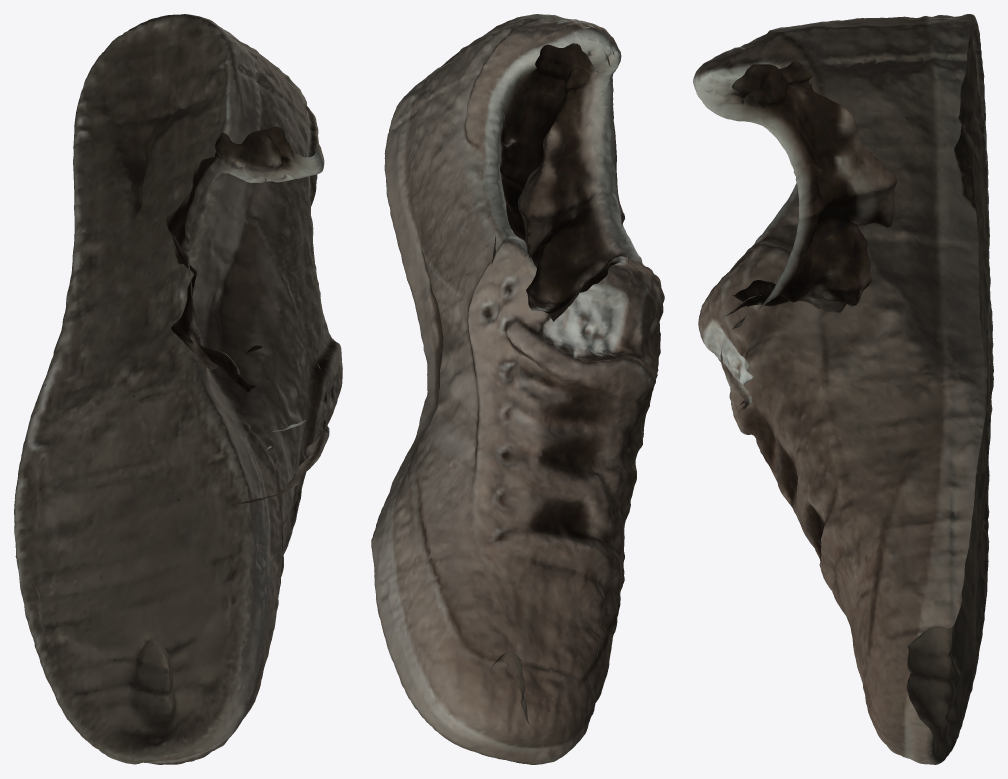
Rendered from shoe3.glb.
3 renders of one model, left to right at view 1: azimuth 30°, elevation 25°; view 2: azimuth 150°, elevation 25°; view 3: azimuth 270°, elevation 25°, orthographic. The views are drawn at different scales.
Size of the model in its own units: 0.3444 by 1 by 0.3697.
